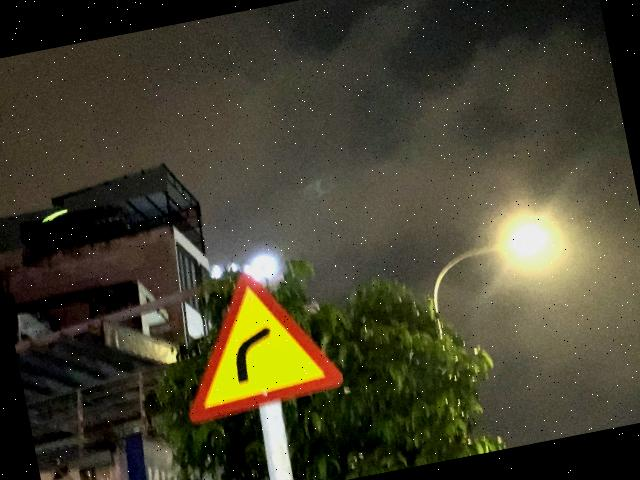cho-ngoat-nguy-hiem-ben-trai: (164, 253, 348, 426)
